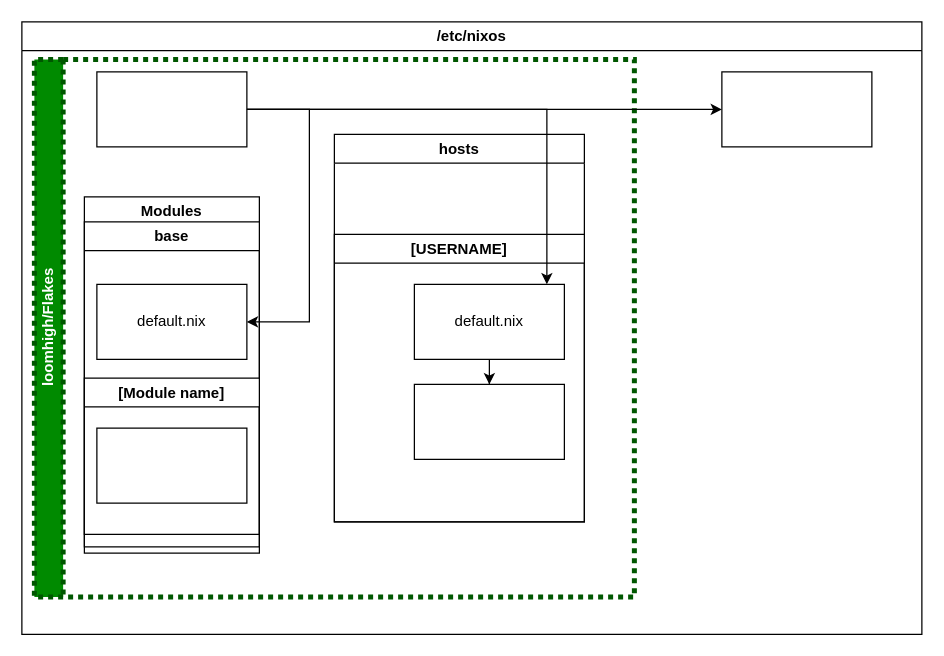
Image size: 944x656. Some labels were removed from this diagram. The centre of each missing label's shape, as x and y in pixels:
"[Module Name].nix" belongs at (x=171, y=465).
"configuration.nix" belongs at (x=488, y=421).
"Flake.nix" belongs at (x=171, y=109).
"hardware-configuration.nix" belongs at (x=796, y=109).
